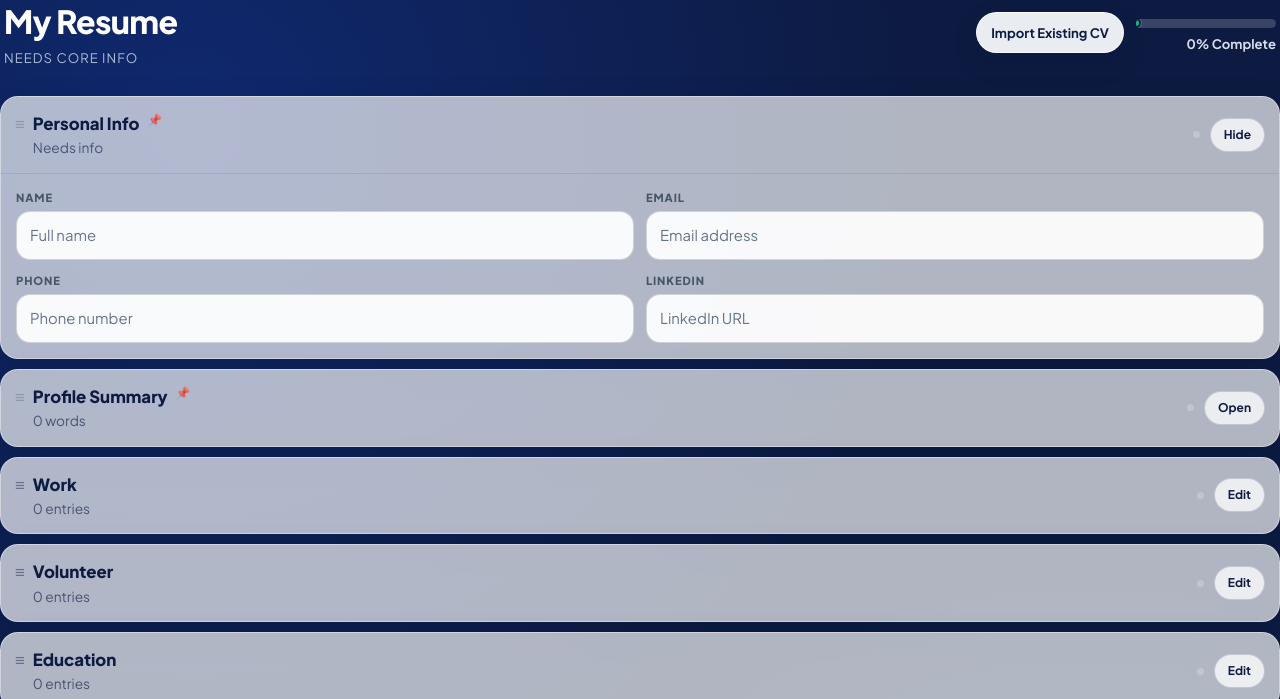
CVForm › opens and closes simple card sections
Expected: the field with id "cv-name" is shown, [16,211,634,260]
Click the button with class "card-action-btn" showing "Hide" at (1237, 135), box [1210,118,1265,152]
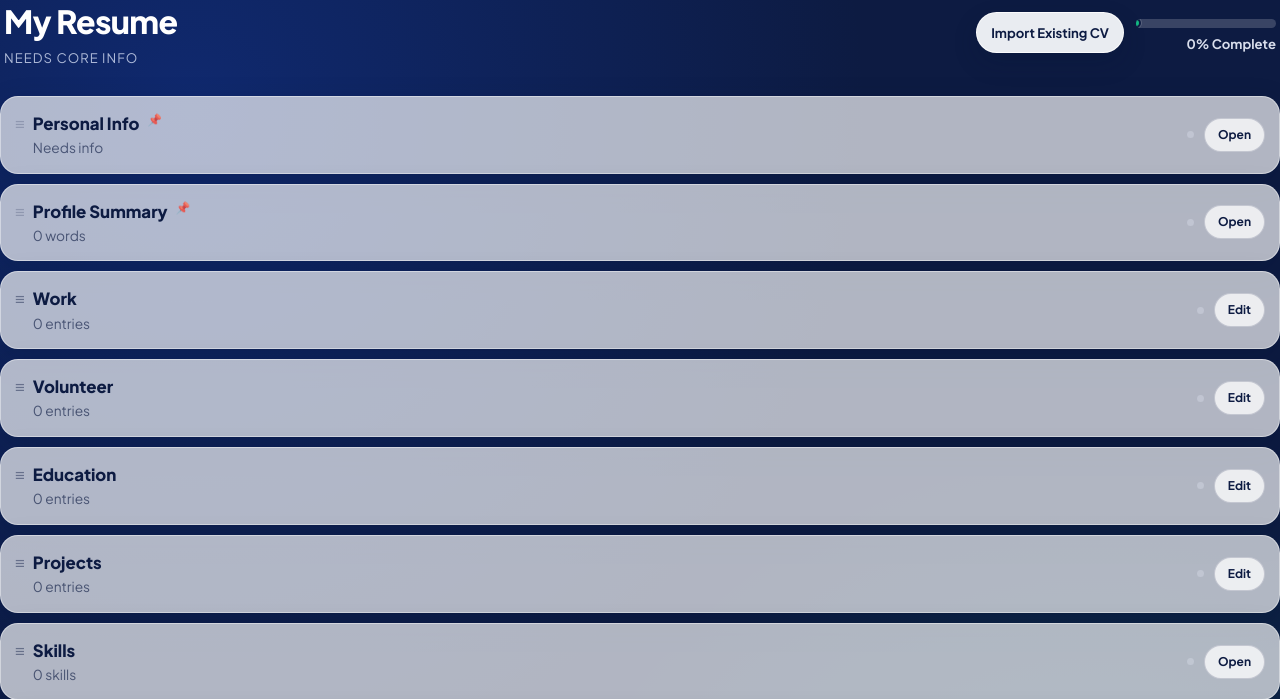
Expected: the label with id "cv-name" is gone
Click the button with class "card-action-btn" in the row of "0 skills" at (1234, 662), box [1204,645,1265,679]
(page scrolled)
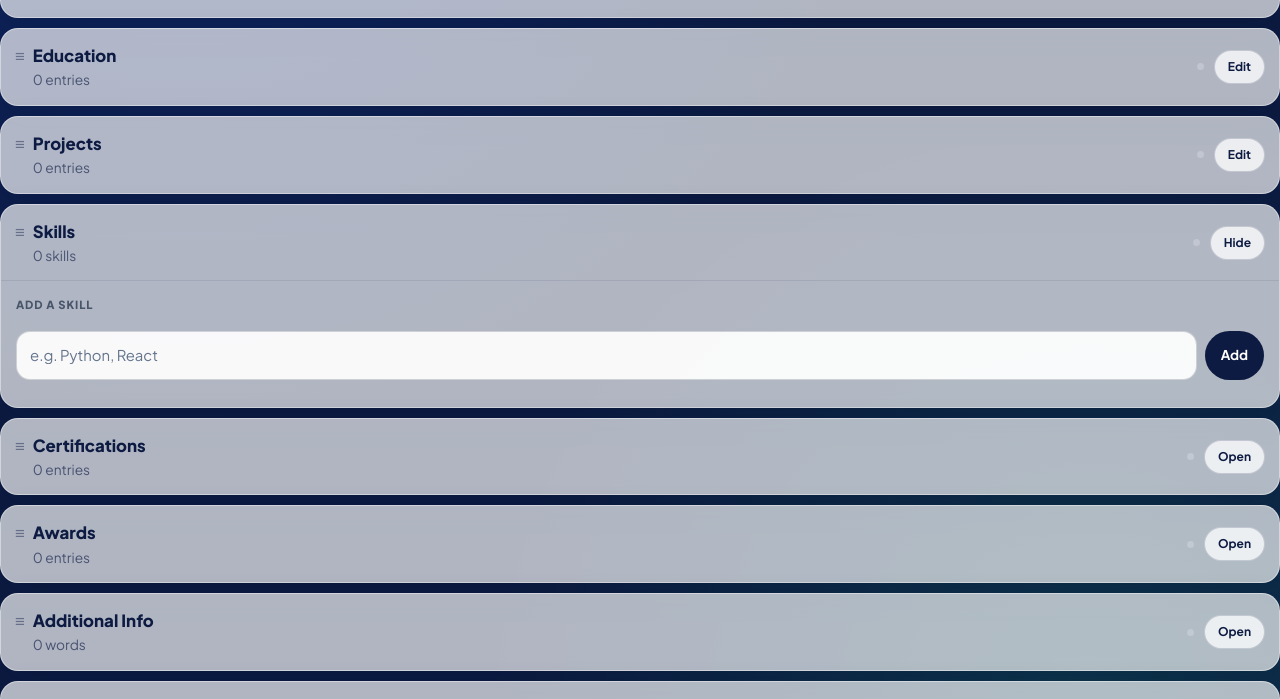
Expected: the field with placeholder "e.g. Python, React" is shown, [16,331,1197,380]
